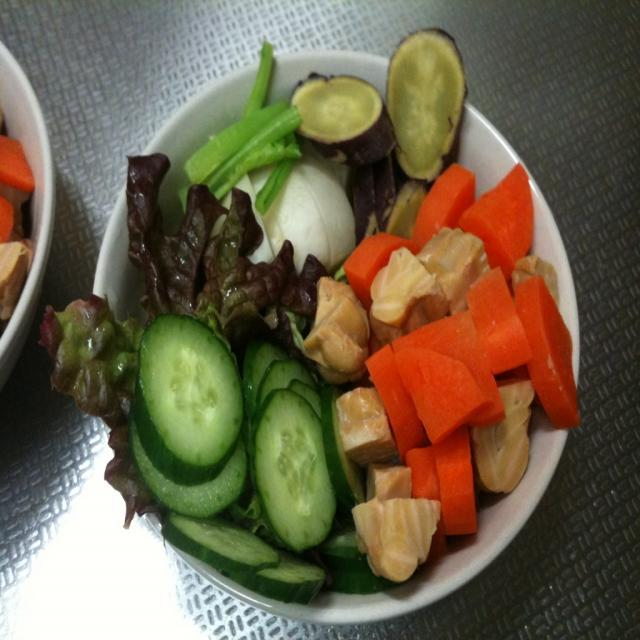Salad: (39, 23, 583, 608), (0, 98, 38, 334)
